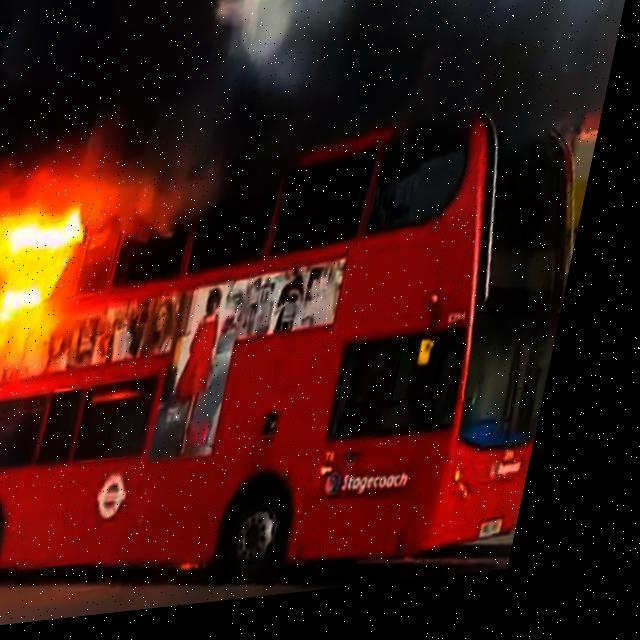Fire: (0, 160, 112, 363)
